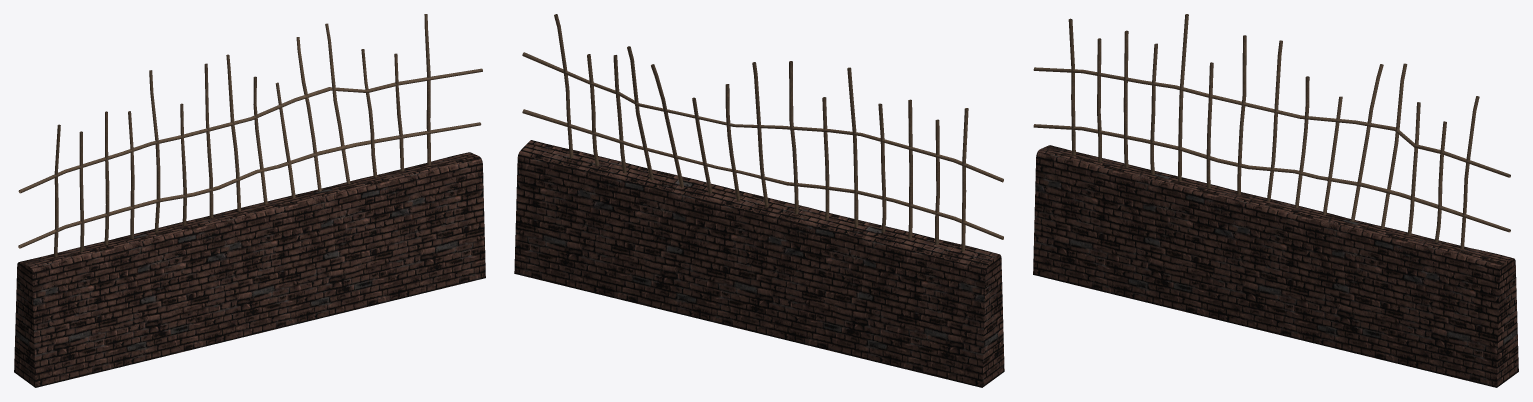
File: Farm_Fence02.fbx
The picture shows the model from 3 angles, left to right: view 1: azimuth 30°, elevation 25°; view 2: azimuth 150°, elevation 25°; view 3: azimuth 330°, elevation 25°; orthographic projection. The views are drawn at different scales.
Parts seen in each view (by area): view 1: SM_Bd_Fence01.mo; view 2: SM_Bd_Fence01.mo; view 3: SM_Bd_Fence01.mo.
Boxes of the visible parts, box(x1,y1,x2,y2) form: SM_Bd_Fence01.mo: box(14, 14, 485, 387); SM_Bd_Fence01.mo: box(514, 14, 1004, 387); SM_Bd_Fence01.mo: box(1033, 14, 1518, 387).
Size of the model in its own units: 839 by 472 by 122.
